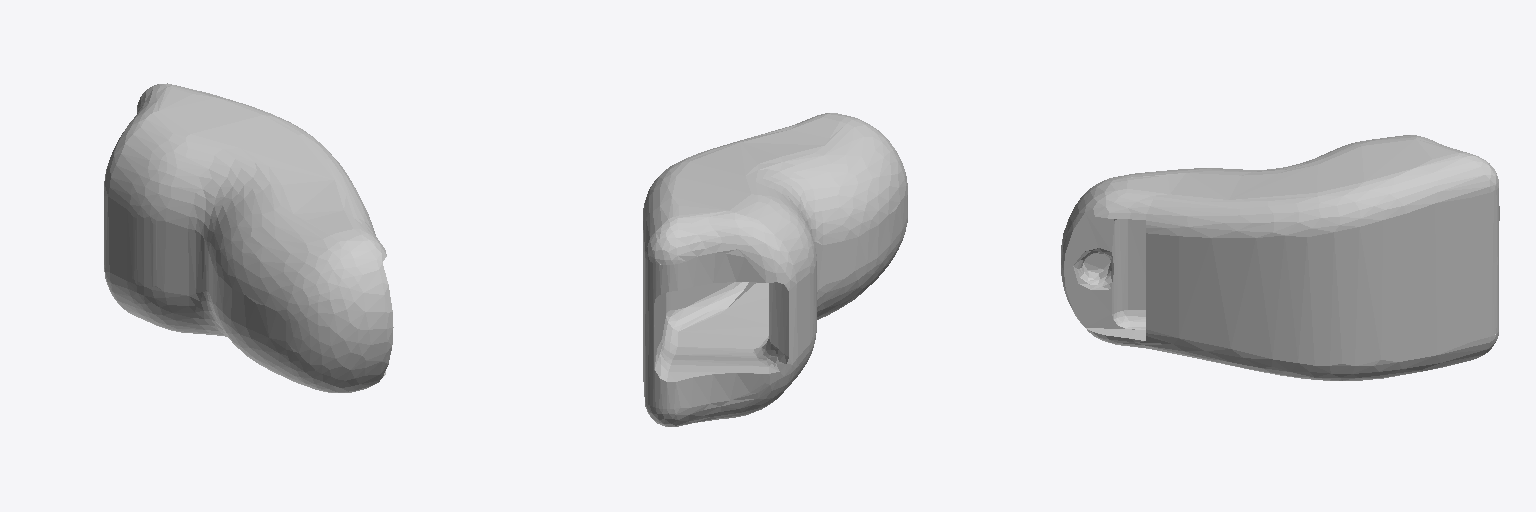
Rendered from right_visual_middle_ip_skin_mesh_mesh.obj.
3 renders of one model, left to right at view 1: azimuth 30°, elevation 25°; view 2: azimuth 150°, elevation 25°; view 3: azimuth 270°, elevation 25°, orthographic.
Bounding box in the file's own units: 0.0177 × 0.0199 × 0.0382.